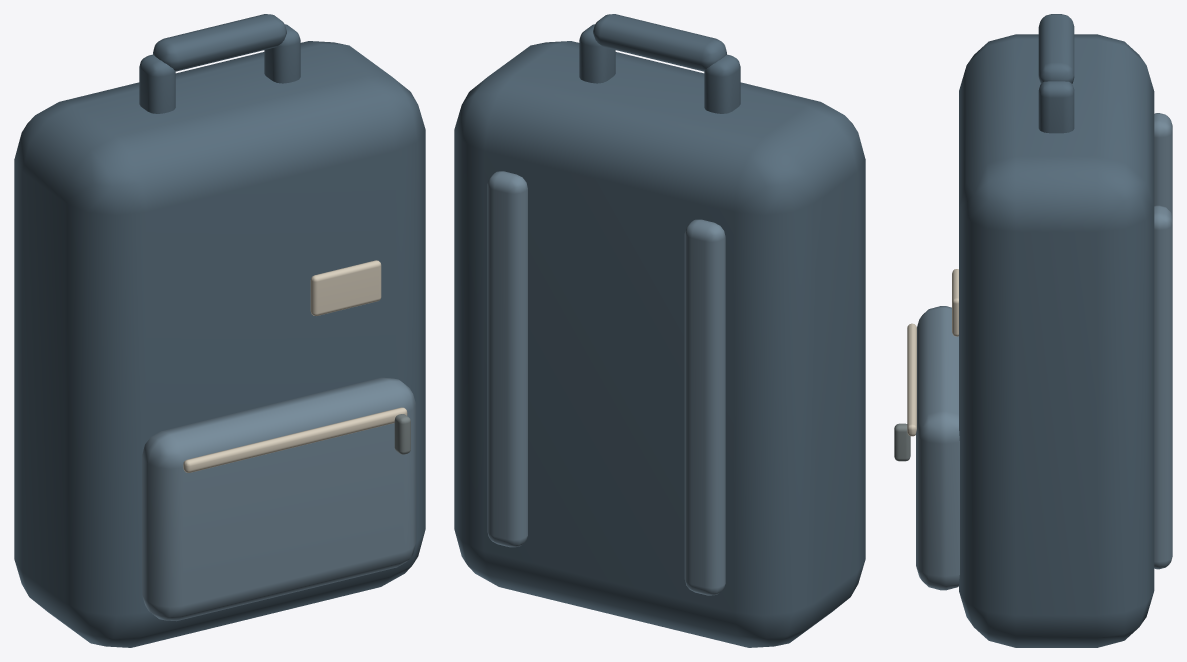
Rendered from prop_schoolbag.glb.
3 renders of one model, left to right at view 1: azimuth 30°, elevation 25°; view 2: azimuth 150°, elevation 25°; view 3: azimuth 270°, elevation 25°, orthographic. The views are drawn at different scales.
Parts seen in each view (by area): view 1: prop_schoolbag_cloth, prop_schoolbag_pocket, prop_schoolbag_zip, prop_schoolbag_metal; view 2: prop_schoolbag_cloth, prop_schoolbag_pocket; view 3: prop_schoolbag_cloth, prop_schoolbag_pocket, prop_schoolbag_zip, prop_schoolbag_metal.
Boxes of the visible parts, x1,y1,x2,y2 form: prop_schoolbag_cloth: (14,14,425,647); prop_schoolbag_pocket: (142,377,416,621); prop_schoolbag_zip: (183,260,407,472); prop_schoolbag_metal: (394,414,410,454); prop_schoolbag_cloth: (454,14,865,647); prop_schoolbag_pocket: (487,171,725,595); prop_schoolbag_cloth: (959,14,1154,647); prop_schoolbag_pocket: (916,113,1172,590); prop_schoolbag_zip: (907,269,958,436); prop_schoolbag_metal: (894,423,910,461).
Bounding box in the file's own units: 0.24 × 0.37 × 0.1712.
